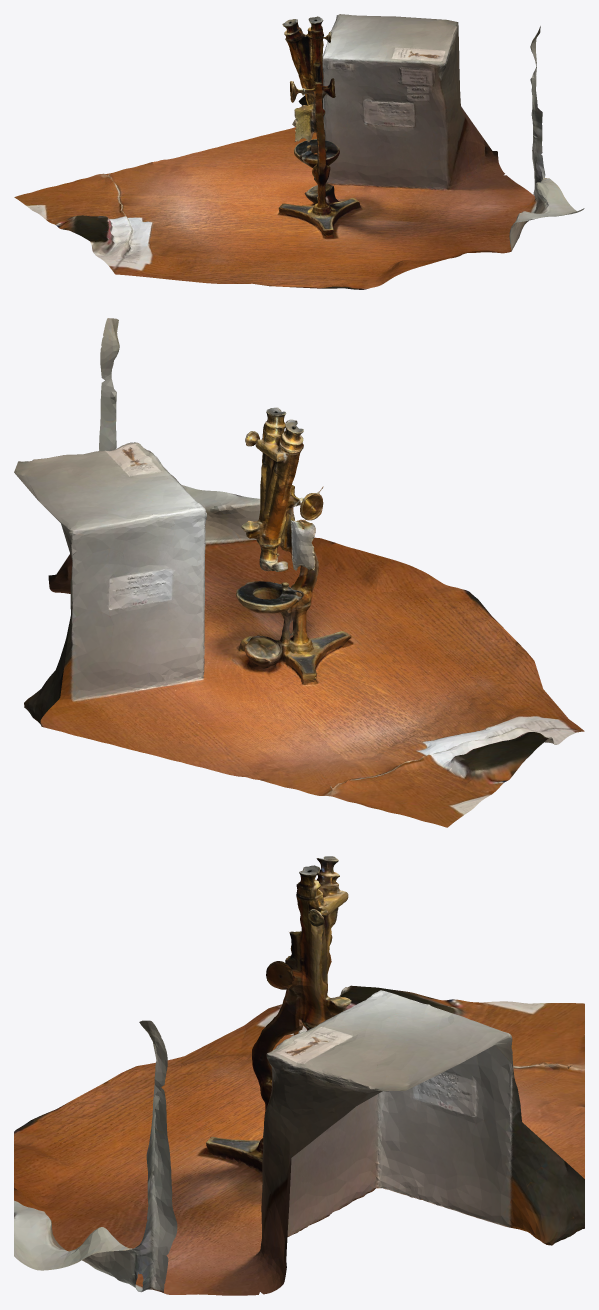
Rendered from scan06.glb.
3 renders of one model, top to bottom at view 1: azimuth 30°, elevation 25°; view 2: azimuth 150°, elevation 25°; view 3: azimuth 270°, elevation 25°, orthographic. The views are drawn at different scales.
Size of the model in its own units: 2 by 0.9641 by 1.63.
1 material, 1 textured.
